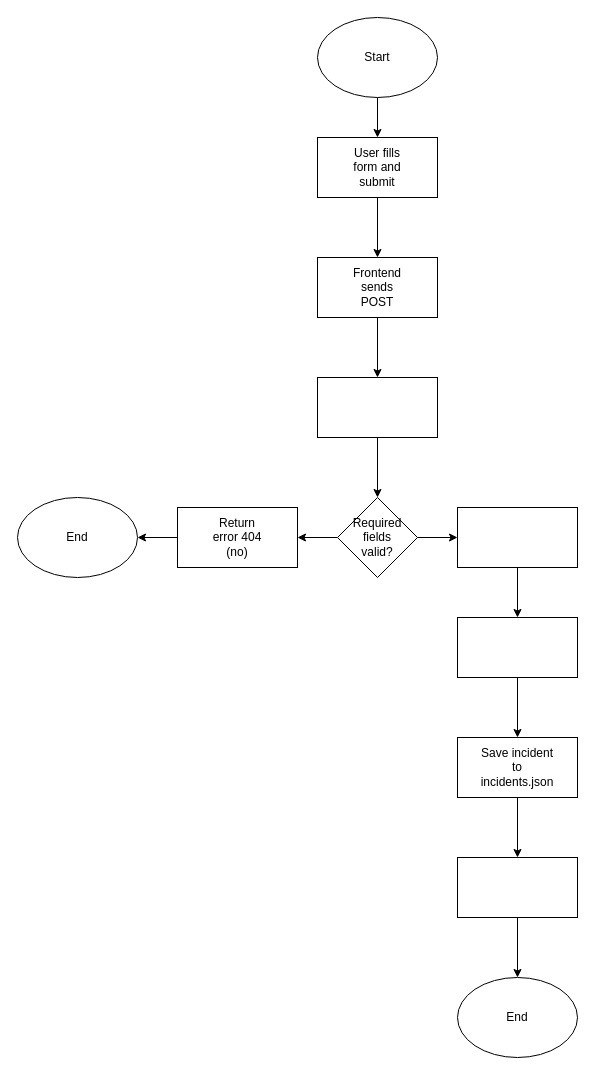
This 595x1075 diagram has some shape labels left out. The shapes that lost their labels are listed below. From the top down, each one's centre as x and y in pixels, then its label:
At (x=377, y=407): "Backend validates input data".
At (x=517, y=537): "Generate unique ID (yes)".
At (x=517, y=647): "Set status = open Set reportedAt = timestamp".
At (x=517, y=887): "Return 201 created".
